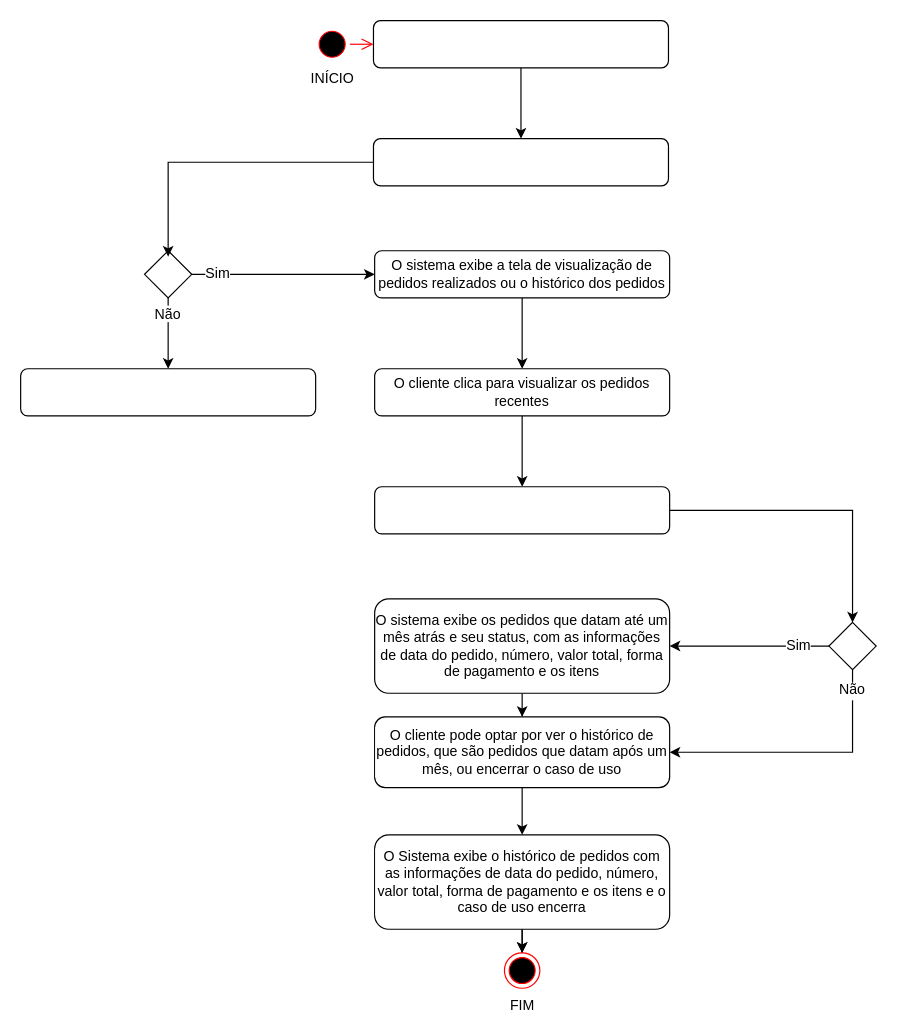
This 909x1035 diagram has some shape labels left out. Here are the shapes that lost their labels. From the top down, the centre of each, then its label:
At [520,43]: "O cliente clica no botão de visualizar pedidos".
At [520,161]: "O sistema verifica se o cliente possui pedidos recentes ou não".
At [167,392]: "O sistema informa o fato e o caso de uso encerra".
At [521,510]: "O sistema verifica se o cliente possui pedidos recentes".
